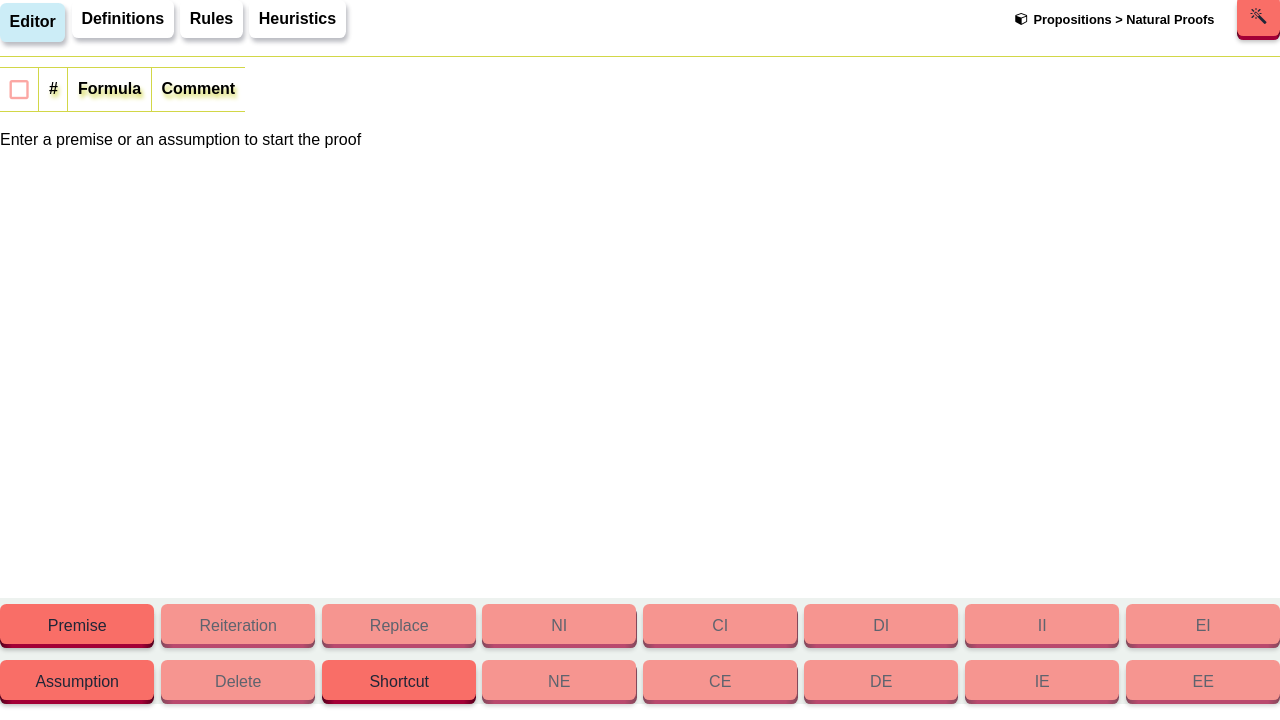
Scenario: Natural Proofs Editor tests: › user can add an assumption to the proof table through the form
The image size is (1280, 720).
Check: the number of rows is 1, box [0,67,245,111]
Check: the text "Enter a premise or an assumption to start the proof" is shown, box [0,128,361,152]
Note: Open the form
Click the button titled "Enter an assumption".
click(77, 684)  # box [0,664,154,704]
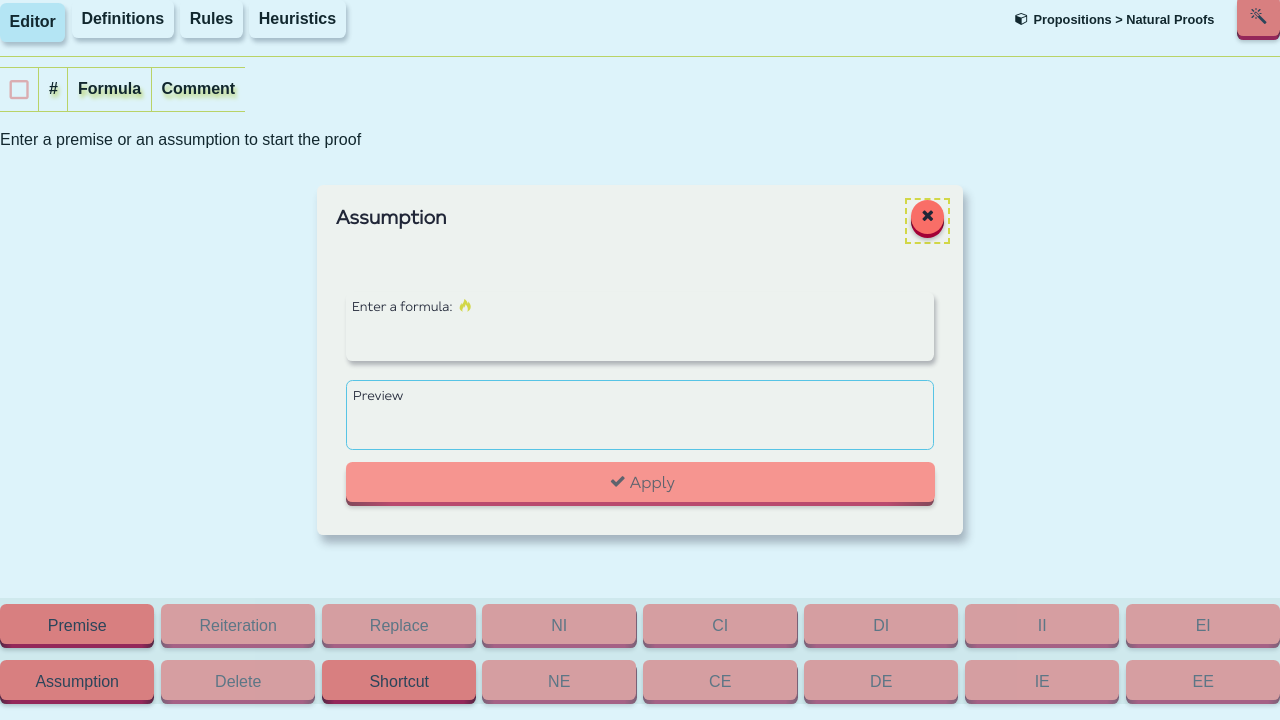
Check: the button titled "Apply" is disabled, box [346,466,934,506]
Note: Enter a value
Type "R" into the field.
click(640, 342); type("R")  # box [346,324,934,361]
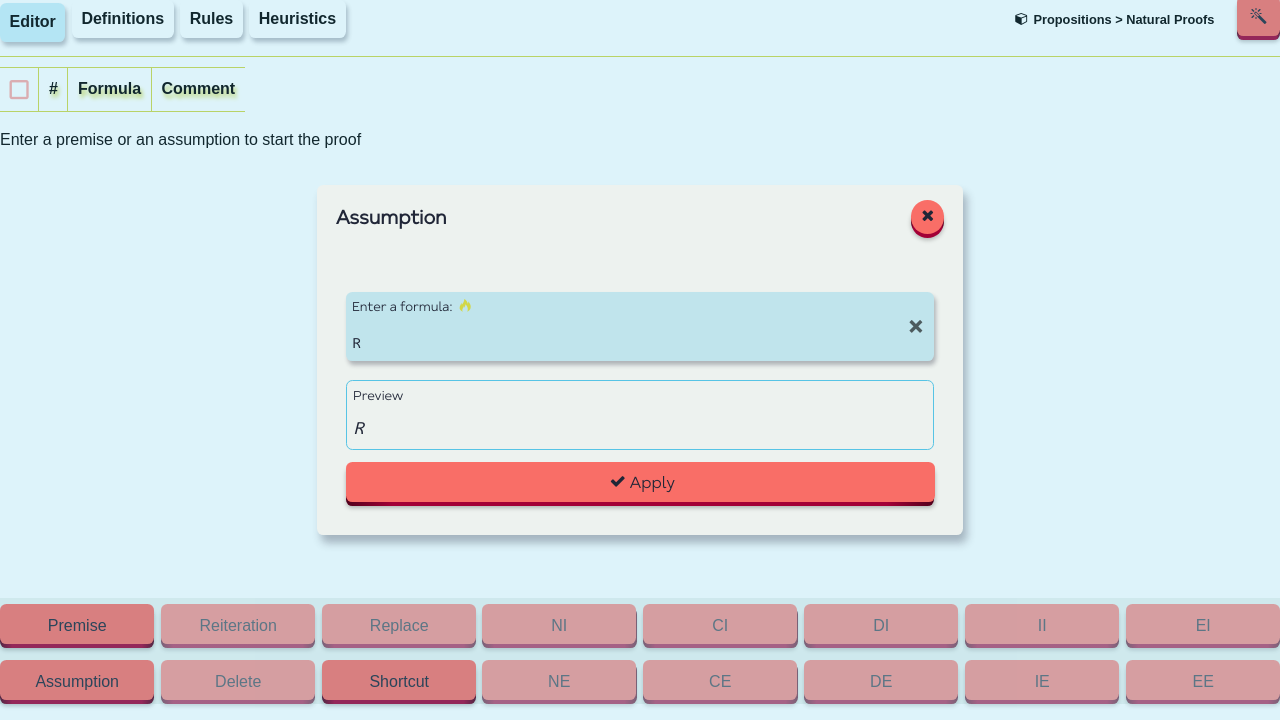
Check: the button titled "Apply" is enabled
Note: Click apply & close the popup
Click the button titled "Apply".
click(640, 486)  # box [346,466,934,506]
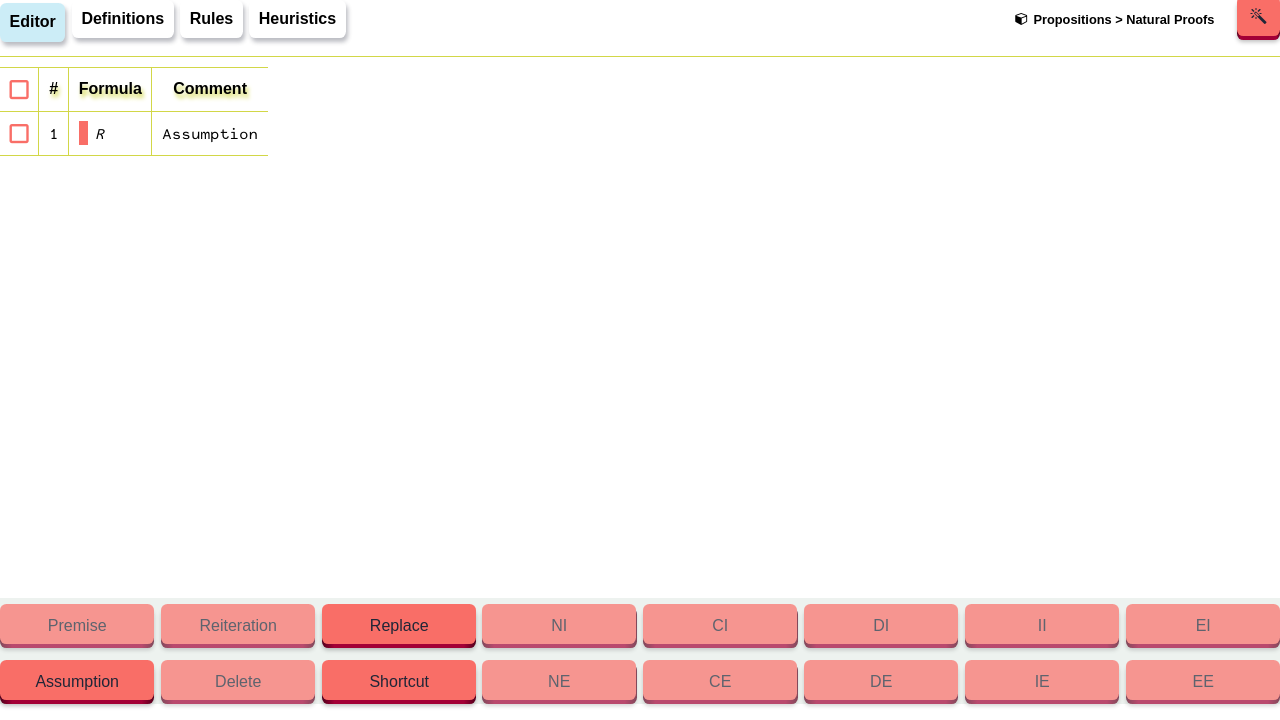
Check: the number of cells is 4, box [0,111,39,156]; [39,111,69,156]; [69,111,152,156]; [152,111,268,156]
Check: the number of rows is 2, box [0,67,268,111]; [0,111,268,156]
Check: the row "1 R Assumption" is shown, box [0,111,268,156]
